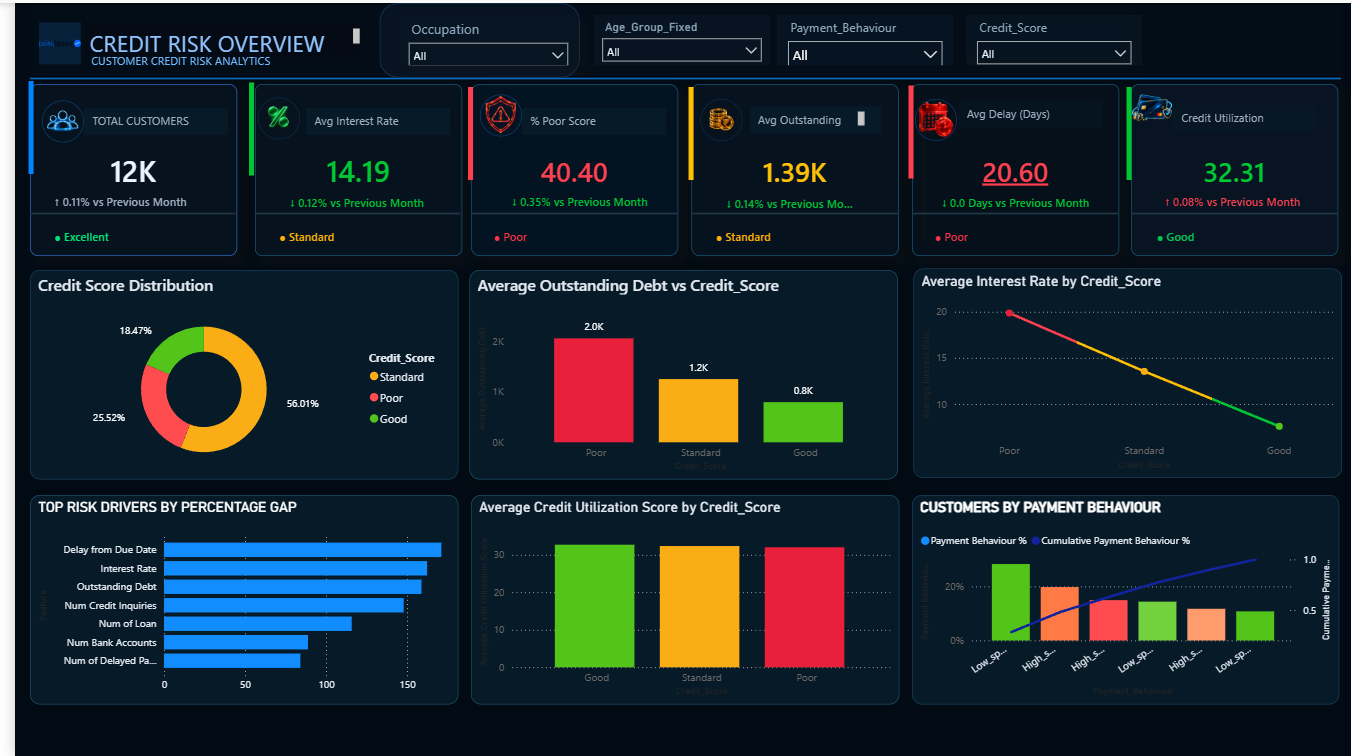

The dashboard page shown, as its layout file describes it:
{"tool":"powerbi","page":{"name":"Page 1","canvas":[1600,900],"ordinal":0},"visuals":[{"type":"shape","box":[19.6,2.2,1563,84.8],"z":0},{"type":"shape","box":[434.7,0,239.1,89.1],"z":1000},{"type":"cardVisual","fields":{"Data":["cleaned_data.Average Interest Rate"]},"box":[285.7,96.4,247,205],"z":2000},{"type":"cardVisual","fields":{"Data":["cleaned_data.Poor Customer %"]},"box":[612.4,401.6,988,12],"z":3000},{"type":"cardVisual","fields":{"Data":["cleaned_data.Average Outstanding Debt"]},"box":[808,96.4,247,205],"z":4000},{"type":"cardVisual","fields":{"Data":["cleaned_data.Average Delay"]},"box":[1070,96,247,205],"z":5000},{"type":"donutChart","title":"Credit Score Distribution","fields":{"Category":["cleaned_data.Credit_Score"],"Y":["cleaned_data.Total Customers"]},"box":[18,318,511,250],"z":6000},{"type":"clusteredColumnChart","title":"Average Outstanding Debt vs  Credit_Score","fields":{"Category":["cleaned_data.Credit_Score"],"Y":["cleaned_data.Average Outstanding Debt"]},"box":[542,317.9,511,250],"z":7000},{"type":"lineChart","fields":{"Category":["cleaned_data.Credit_Score"],"Y":["cleaned_data.Average Interest Rate"]},"box":[1072,317.6,511,250],"z":8000},{"type":"clusteredBarChart","title":"TOP RISK DRIVERS BY PERCENTAGE GAP","fields":{"Category":["Risk_Drivers_Table.Feature"],"Y":["Sum(Risk_Drivers_Table.Pct_Gap)"]},"box":[18,587,511,250],"z":9000},{"type":"textbox","box":[84.2,24.2,332.6,41.1],"z":10000},{"type":"slicer","fields":{"Values":["cleaned_data.Occupation"]},"box":[459.3,15,210,60],"z":11000},{"type":"slicer","fields":{"Values":["cleaned_data.Credit_Score"]},"box":[1135,15,210,60],"z":12000},{"type":"slicer","fields":{"Values":["cleaned_data.Age_Group_Fixed"]},"box":[691.3,15.2,210,60],"z":13000},{"type":"slicer","title":"Payment Behavior","fields":{"Values":["cleaned_data.Payment_Behaviour"]},"box":[909.8,15,210,60],"z":14000},{"type":"shape","box":[18,84,1564.8,12],"z":15000},{"type":"cardVisual","fields":{"Data":["cleaned_data.Poor Customer %"]},"box":[544,96.7,247,205],"z":16000},{"type":"cardVisual","fields":{"Data":["cleaned_data.Average Credit Utilization Score"]},"box":[1333,96,247,205],"z":17000},{"type":"clusteredColumnChart","fields":{"Category":["cleaned_data.Credit_Score"],"Y":["cleaned_data.Average Credit Utilization Score"]},"box":[545,587,511,250],"z":18000},{"type":"lineClusteredColumnComboChart","title":"CUSTOMERS BY PAYMENT BEHAVIOUR","fields":{"Category":["cleaned_data.Payment_Behaviour"],"Y":["cleaned_data.Payment Behaviour %"],"Y2":["cleaned_data.Cumulative Payment Behaviour %"]},"box":[1070,586.7,510,250],"z":19000},{"type":"cardVisual","fields":{"Data":["cleaned_data.Total Customers"]},"box":[18,96,247,205],"z":20000},{"type":"shape","box":[795,101,24,111],"z":21000},{"type":"shape","box":[531.9,100.3,24,111],"z":22000},{"type":"shape","box":[7.6,92.7,24,111],"z":23000},{"type":"shape","box":[270,95,24,111],"z":24000},{"type":"shape","box":[1063.4,99.1,12,111],"z":25000},{"type":"shape","box":[1317,101,24,111],"z":26000},{"type":"image","box":[290,113.3,50,50],"z":27000},{"type":"image","box":[555,108.3,50,50],"z":28000},{"type":"image","box":[1074.7,114.7,50,50],"z":29000},{"type":"image","box":[818.3,115,50,50],"z":30000},{"type":"image","box":[31.7,116.7,50,50],"z":31000},{"type":"textbox","box":[82,126,172,32],"z":32000},{"type":"textbox","box":[347.3,124.5,172,32],"z":33000},{"type":"textbox","box":[605.5,124.5,172,32],"z":34000},{"type":"textbox","box":[1125.5,116.4,172,32],"z":35000},{"type":"textbox","box":[876.8,123.2,155.8,32.6],"z":36000},{"type":"textbox","box":[1382.7,120.9,172,32],"z":37000},{"type":"shape","box":[1070,246,246,12],"z":38000},{"type":"shape","box":[1333,246,246,12],"z":39000},{"type":"shape","box":[807,246,246,12],"z":40000},{"type":"shape","box":[544,246,246,12],"z":41000},{"type":"shape","box":[286,246,245,12],"z":42000},{"type":"shape","box":[18,246,245,12],"z":43000},{"type":"cardVisual","fields":{"Data":["cleaned_data.Total Customers Trend Display"]},"box":[17.9,208,258,56.2],"z":44000},{"type":"cardVisual","fields":{"Data":["cleaned_data.Avg Interest Rate Trend Display"]},"box":[293.8,209.8,229.5,54.5],"z":45000},{"type":"cardVisual","fields":{"Data":["cleaned_data.Poor Score Trend Display"]},"box":[564.3,209.8,225,53.6],"z":46000},{"type":"cardVisual","fields":{"Data":["cleaned_data.Avg Outstanding Debt Trend Display"]},"box":[819.6,203.6,213.4,67],"z":47000},{"type":"cardVisual","fields":{"Data":["cleaned_data.Avg Delay Trend Display"]},"box":[1075,208,240.2,58],"z":48000},{"type":"cardVisual","fields":{"Data":["cleaned_data.Credit Utilization Trend Display"]},"box":[1321.1,210.1,264.3,53.6],"z":49000},{"type":"cardVisual","fields":{"Data":["cleaned_data.Customer Status"]},"box":[17.9,251.8,138.4,50],"z":50000},{"type":"cardVisual","fields":{"Data":["cleaned_data.Interest Rate Status"]},"box":[285.7,251.8,196.4,50],"z":51000},{"type":"cardVisual","fields":{"Data":["cleaned_data.Poor Score Status"]},"box":[542,251.8,247.3,50],"z":52000},{"type":"cardVisual","fields":{"Data":["cleaned_data.Debt Status"]},"box":[808,251.8,247.3,50],"z":53000},{"type":"cardVisual","fields":{"Data":["cleaned_data.Delay Status"]},"box":[1069.6,251.8,247.3,50],"z":54000},{"type":"cardVisual","fields":{"Data":["cleaned_data.Utilization Status"]},"box":[1333,251.8,246.4,50],"z":55000},{"type":"image","box":[1332.5,100.3,50,50],"z":56000},{"type":"image","box":[28,24,50,50],"z":57000},{"type":"textbox","box":[85.3,53.7,349.5,30.5],"z":58000}]}

Visuals, with their boxes in screenshot pixels (x1, y1, x2, y2), scaled from the page's 1600x900 canvas onto the 1351x756 screenshot:
shape: 17:2:1336:73
shape: 367:0:569:75
cardVisual - cleaned_data.Average Interest Rate: 241:81:450:253
cardVisual - cleaned_data.Poor Customer %: 517:337:1350:347
cardVisual - cleaned_data.Average Outstanding Debt: 682:81:891:253
cardVisual - cleaned_data.Average Delay: 903:81:1112:253
"Credit Score Distribution" donutChart: 15:267:447:477
"Average Outstanding Debt vs  Credit_Score" clusteredColumnChart: 458:267:889:477
lineChart - cleaned_data.Credit_Score x cleaned_data.Average Interest Rate: 905:267:1337:477
"TOP RISK DRIVERS BY PERCENTAGE GAP" clusteredBarChart: 15:493:447:703
textbox: 71:20:352:55
slicer - cleaned_data.Occupation: 388:13:565:63
slicer - cleaned_data.Credit_Score: 958:13:1136:63
slicer - cleaned_data.Age_Group_Fixed: 584:13:761:63
"Payment Behavior" slicer: 768:13:946:63
shape: 15:71:1336:81
cardVisual - cleaned_data.Poor Customer %: 459:81:668:253
cardVisual - cleaned_data.Average Credit Utilization Score: 1126:81:1334:253
clusteredColumnChart - cleaned_data.Credit_Score x cleaned_data.Average Credit Utilization Score: 460:493:892:703
"CUSTOMERS BY PAYMENT BEHAVIOUR" lineClusteredColumnComboChart: 903:493:1334:703
cardVisual - cleaned_data.Total Customers: 15:81:224:253
shape: 671:85:692:178
shape: 449:84:469:177
shape: 6:78:27:171
shape: 228:80:248:173
shape: 898:83:908:176
shape: 1112:85:1132:178
image: 245:95:287:137
image: 469:91:511:133
image: 907:96:950:138
image: 691:97:733:139
image: 27:98:69:140
textbox: 69:106:214:133
textbox: 293:105:438:131
textbox: 511:105:657:131
textbox: 950:98:1096:125
textbox: 740:103:872:131
textbox: 1168:102:1313:128
shape: 903:207:1111:217
shape: 1126:207:1333:217
shape: 681:207:889:217
shape: 459:207:667:217
shape: 241:207:448:217
shape: 15:207:222:217
cardVisual - cleaned_data.Total Customers Trend Display: 15:175:233:222
cardVisual - cleaned_data.Avg Interest Rate Trend Display: 248:176:442:222
cardVisual - cleaned_data.Poor Score Trend Display: 476:176:666:221
cardVisual - cleaned_data.Avg Outstanding Debt Trend Display: 692:171:872:227
cardVisual - cleaned_data.Avg Delay Trend Display: 908:175:1111:223
cardVisual - cleaned_data.Credit Utilization Trend Display: 1116:176:1339:222
cardVisual - cleaned_data.Customer Status: 15:212:132:254
cardVisual - cleaned_data.Interest Rate Status: 241:212:407:254
cardVisual - cleaned_data.Poor Score Status: 458:212:666:254
cardVisual - cleaned_data.Debt Status: 682:212:891:254
cardVisual - cleaned_data.Delay Status: 903:212:1112:254
cardVisual - cleaned_data.Utilization Status: 1126:212:1334:254
image: 1125:84:1167:126
image: 24:20:66:62
textbox: 72:45:367:71
